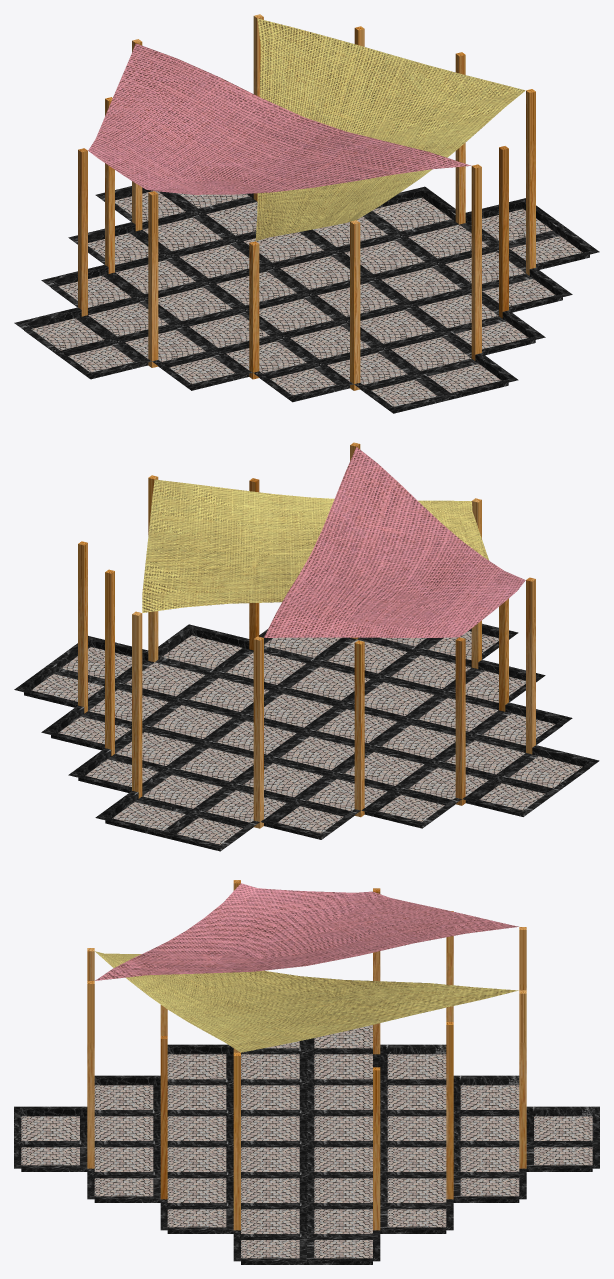
File: CobbleFloor.dae
3 views of the same model, one above another, from view 1: azimuth 30°, elevation 25°; view 2: azimuth 150°, elevation 25°; view 3: azimuth 270°, elevation 25° (orthographic).
Visible parts, largest first — view 1: Plane.019; view 2: Plane.019; view 3: Plane.019.
Part boxes in pixels (x1,y1,x2,y2): Plane.019: [14, 14, 599, 413]; Plane.019: [14, 442, 599, 851]; Plane.019: [14, 880, 599, 1264].
Size of the model in its own units: 16 by 16 by 5.75.
